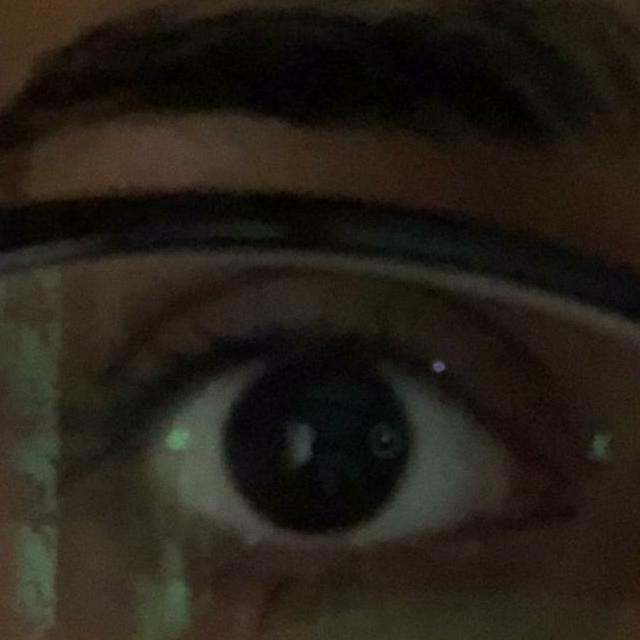eye: (144, 344, 508, 554)
iris: (224, 356, 412, 538)
